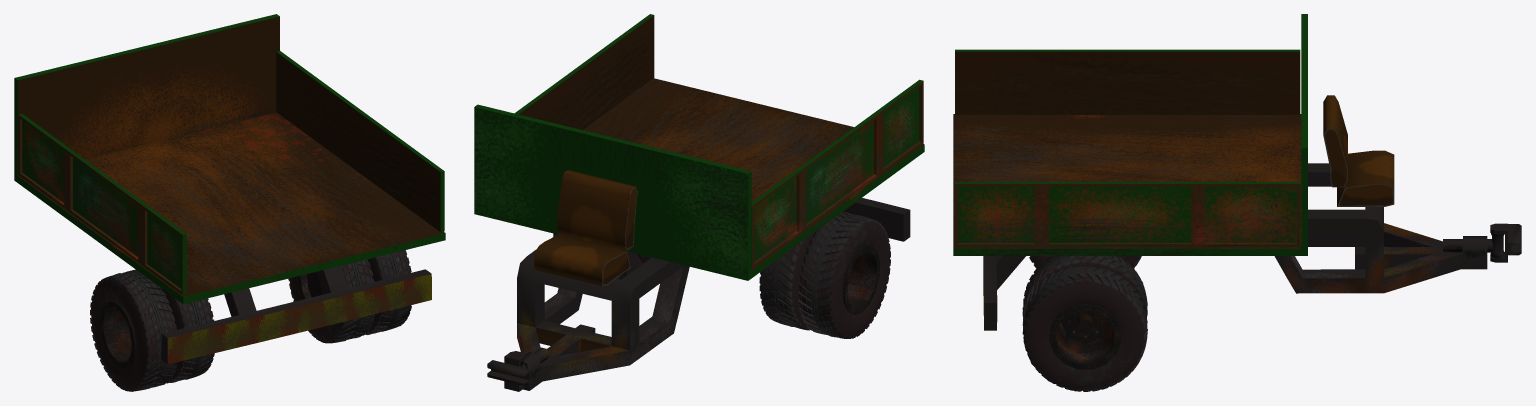
File: Whells 0.fbx
3 renders of one model, left to right at view 1: azimuth 30°, elevation 25°; view 2: azimuth 150°, elevation 25°; view 3: azimuth 270°, elevation 25°, orthographic. The views are drawn at different scales.
Parts seen in each view (by area): view 1: Kuzov, Bort_P, Bort_L, Rama_Tralar, Array_4, Array_2, Array_3, Wheel_4, Array; view 2: Kuzov, Rama_Tralar, Bort_L, Array_4, Bort_P, Spinka, Sedlo, Array_3, Wheel_4, Scepka; view 3: Kuzov, Bort_P, Bort_L, Rama_Tralar, Array, Wheel, Sedlo, Array_2, Spinka, Scepka.
Part boxes in pixels (x1=…): Kuzov: x1=14, y1=14, x2=445, y2=303; Bort_P: x1=276, y1=51, x2=444, y2=232; Bort_L: x1=18, y1=113, x2=186, y2=295; Rama_Tralar: x1=161, y1=266, x2=431, y2=364; Array_4: x1=90, y1=269, x2=177, y2=391; Array_2: x1=288, y1=259, x2=374, y2=343; Array_3: x1=162, y1=289, x2=214, y2=383; Wheel_4: x1=100, y1=301, x2=136, y2=368; Array: x1=365, y1=250, x2=411, y2=334; Kuzov: x1=474, y1=78, x2=924, y2=280; Rama_Tralar: x1=517, y1=198, x2=910, y2=390; Bort_L: x1=751, y1=79, x2=923, y2=268; Array_4: x1=798, y1=211, x2=890, y2=338; Bort_P: x1=514, y1=14, x2=654, y2=129; Spinka: x1=557, y1=170, x2=637, y2=250; Sedlo: x1=534, y1=235, x2=630, y2=286; Array_3: x1=759, y1=231, x2=817, y2=330; Wheel_4: x1=843, y1=245, x2=880, y2=315; Scepka: x1=487, y1=351, x2=530, y2=391; Kuzov: x1=953, y1=14, x2=1307, y2=255; Bort_P: x1=955, y1=182, x2=1300, y2=247; Bort_L: x1=955, y1=49, x2=1300, y2=114; Rama_Tralar: x1=983, y1=163, x2=1487, y2=330; Array: x1=1022, y1=265, x2=1147, y2=391; Wheel: x1=1049, y1=303, x2=1121, y2=369; Sedlo: x1=1337, y1=150, x2=1394, y2=206; Array_2: x1=1022, y1=256, x2=1147, y2=317; Spinka: x1=1323, y1=95, x2=1347, y2=187; Scepka: x1=1490, y1=223, x2=1521, y2=262.
Size of the model in its own units: 149 by 122 by 258.
